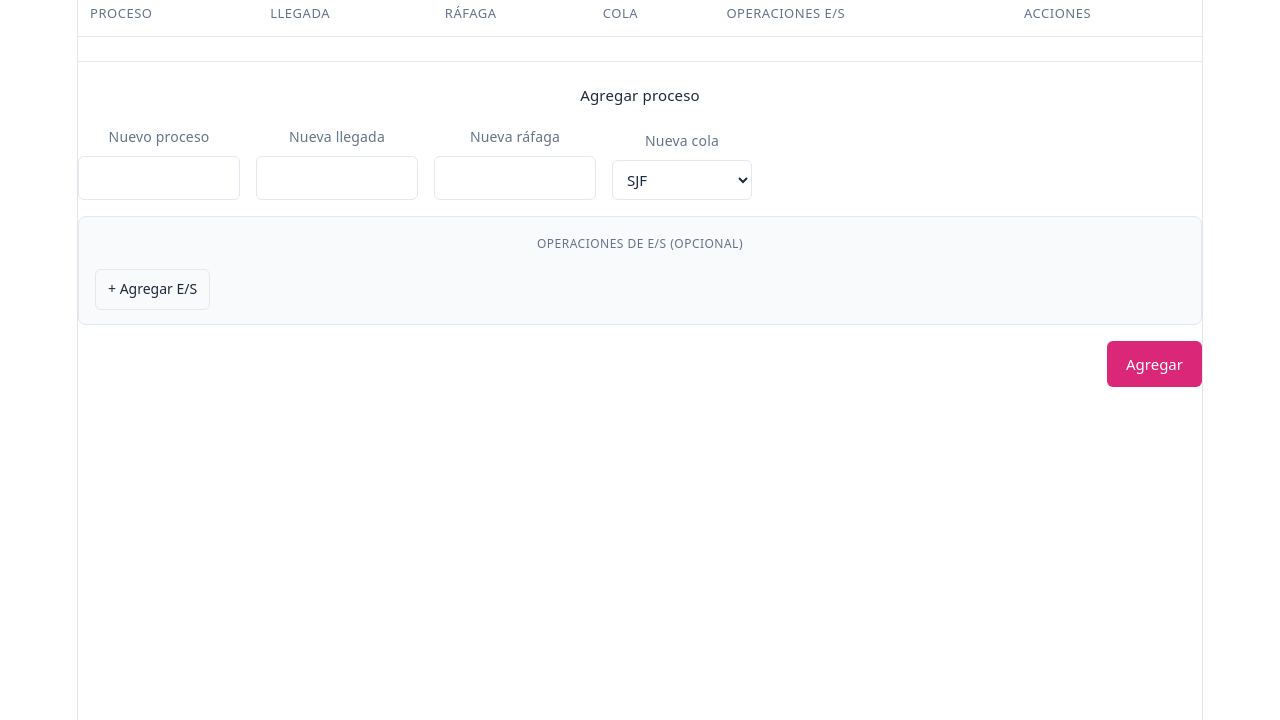
ProcessTable › adds a valid row and shows it in the table [4.1]
The image size is (1280, 720).
Type "P1" into the field labelled "Nuevo proceso".
click(159, 178); type("P1")  # box [78, 156, 240, 200]
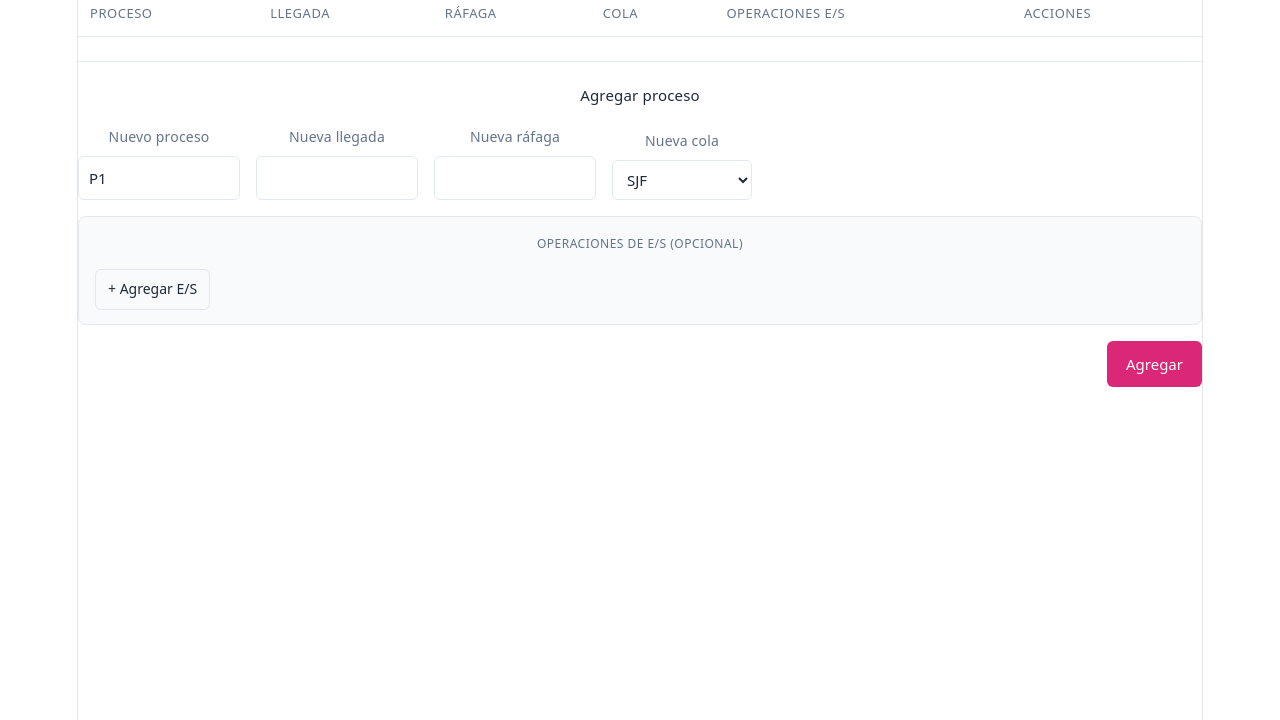
Type "2" into the field labelled "Nueva llegada".
click(337, 178); type("2")  # box [256, 156, 418, 200]
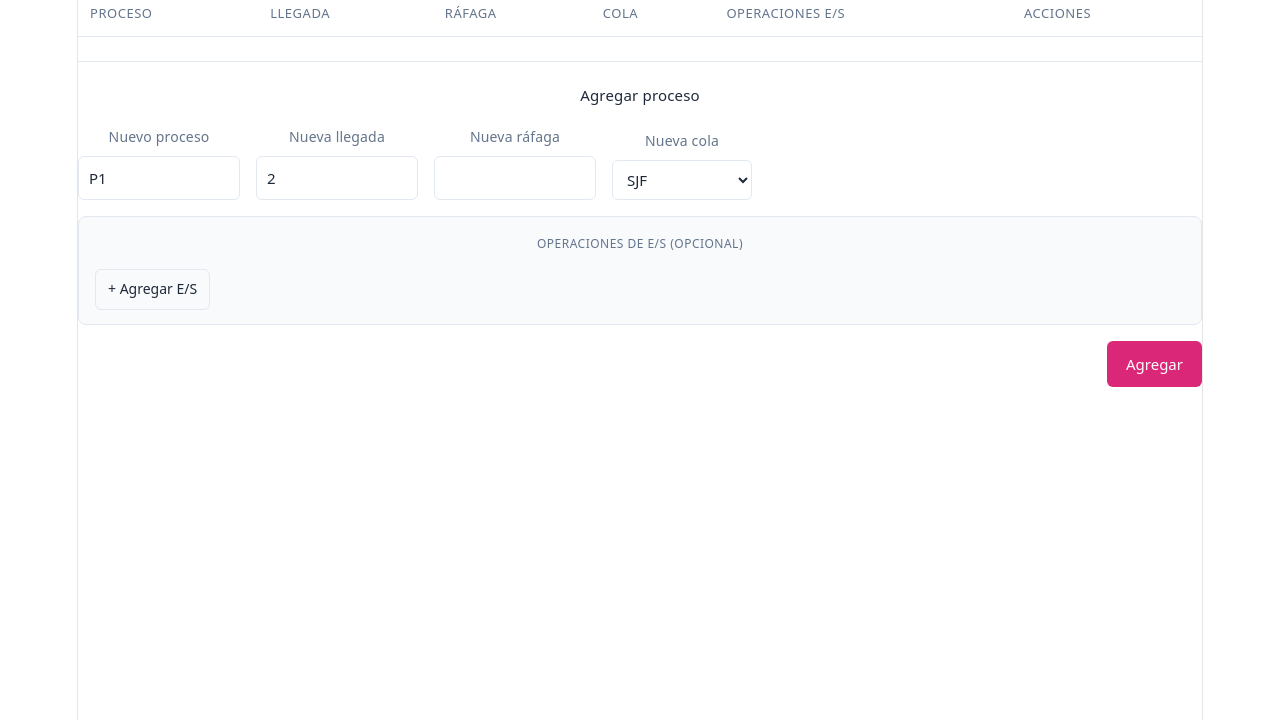
Type "5" into the field labelled "Nueva ráfaga".
click(515, 178); type("5")  # box [434, 156, 596, 200]
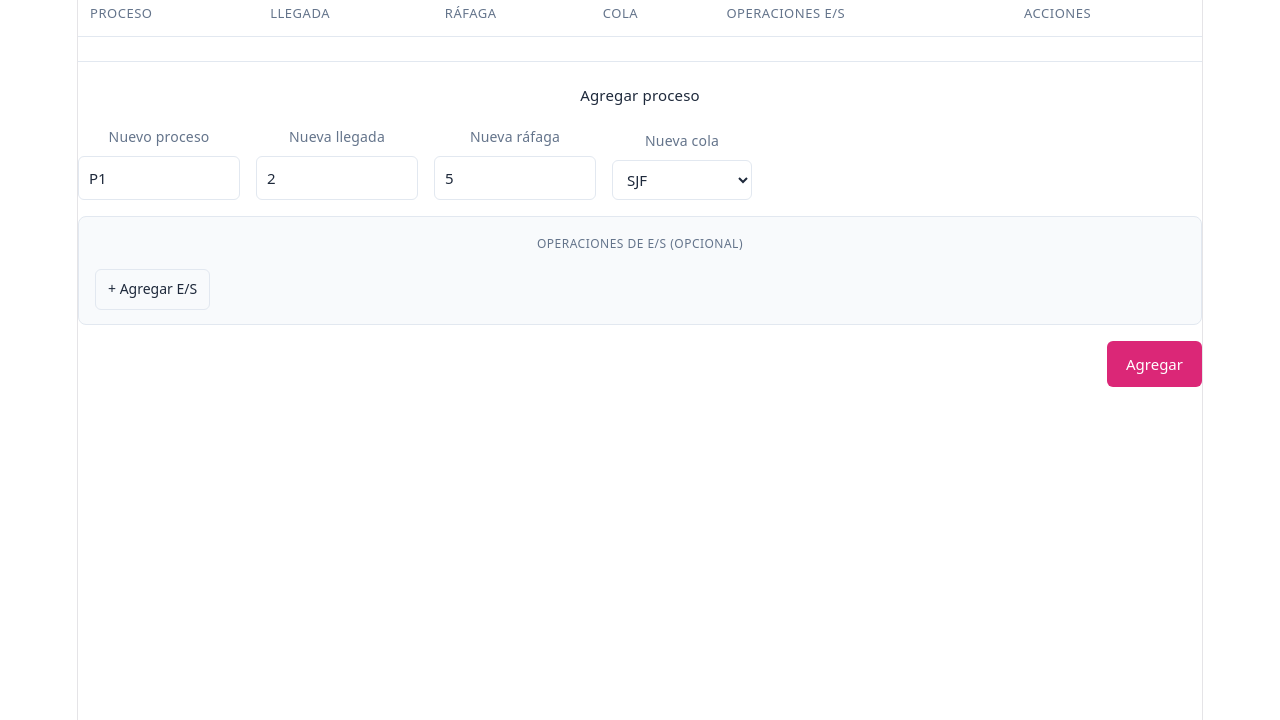
Click the button "Agregar".
click(1154, 364)  # box [1107, 341, 1202, 387]
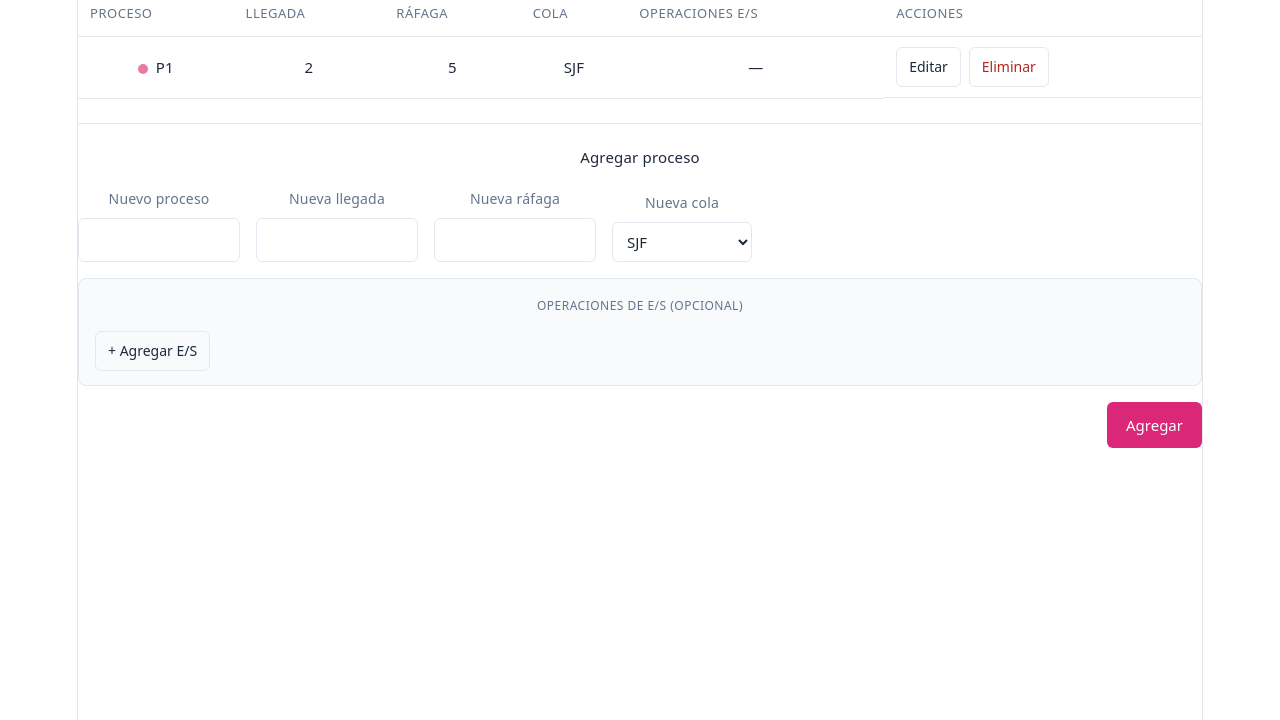
Expected: the text "P1" is shown, [78, 37, 234, 98]
Expected: the text "2" is shown, [234, 37, 384, 98]
Expected: the text "5" is shown, [384, 37, 521, 98]
